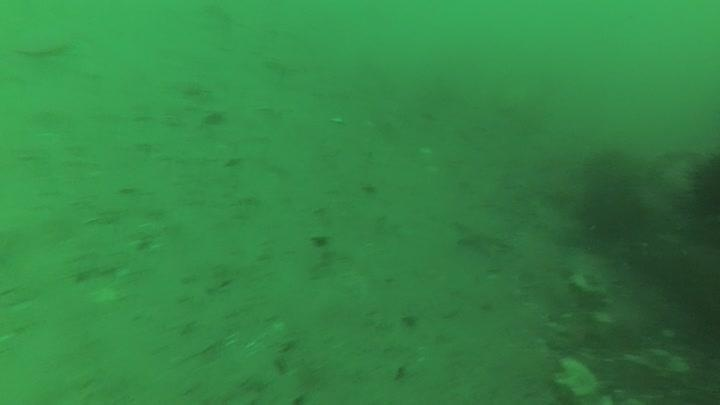echinus: (576, 178, 650, 246), (682, 149, 720, 249)
holothurian: (567, 269, 609, 301)
scallop: (9, 25, 75, 59)
starfish: (451, 216, 512, 261)
